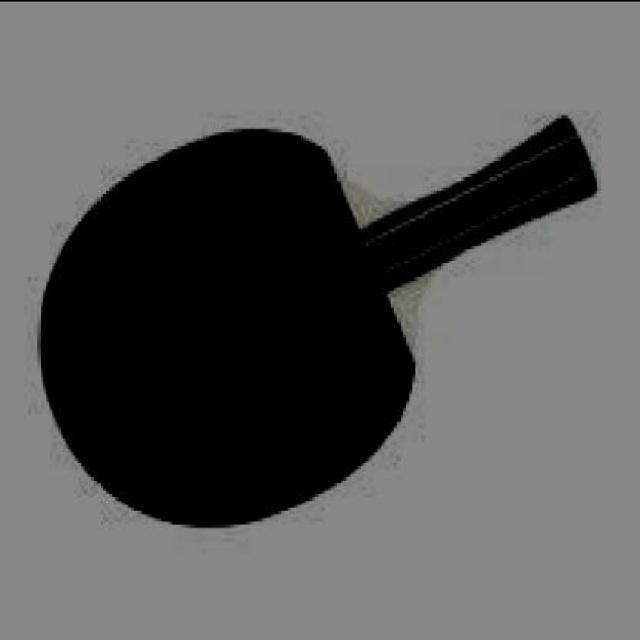table_tennis_racket: (34, 123, 418, 531)
